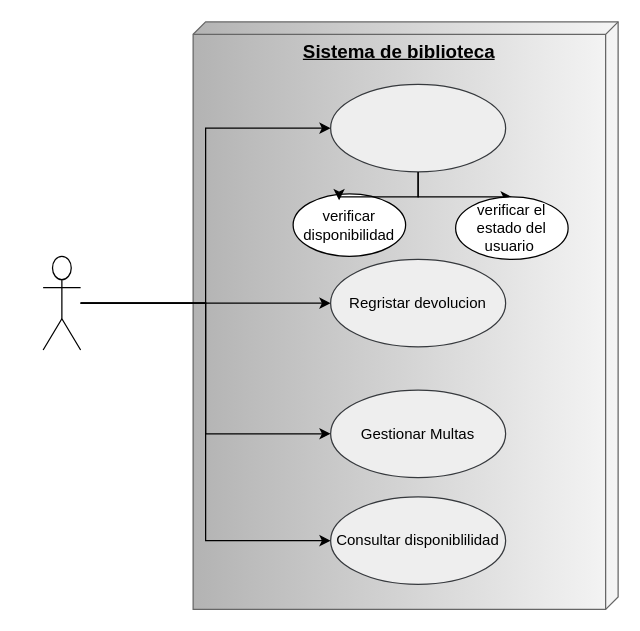
This 640x631 diagram has some shape labels left out. Here are the shapes that lost their labels. From the top down, the box of each, then its label:
(329, 83, 506, 172): Regristar prestamos de libros
(42, 255, 81, 350): Bibliotecario
